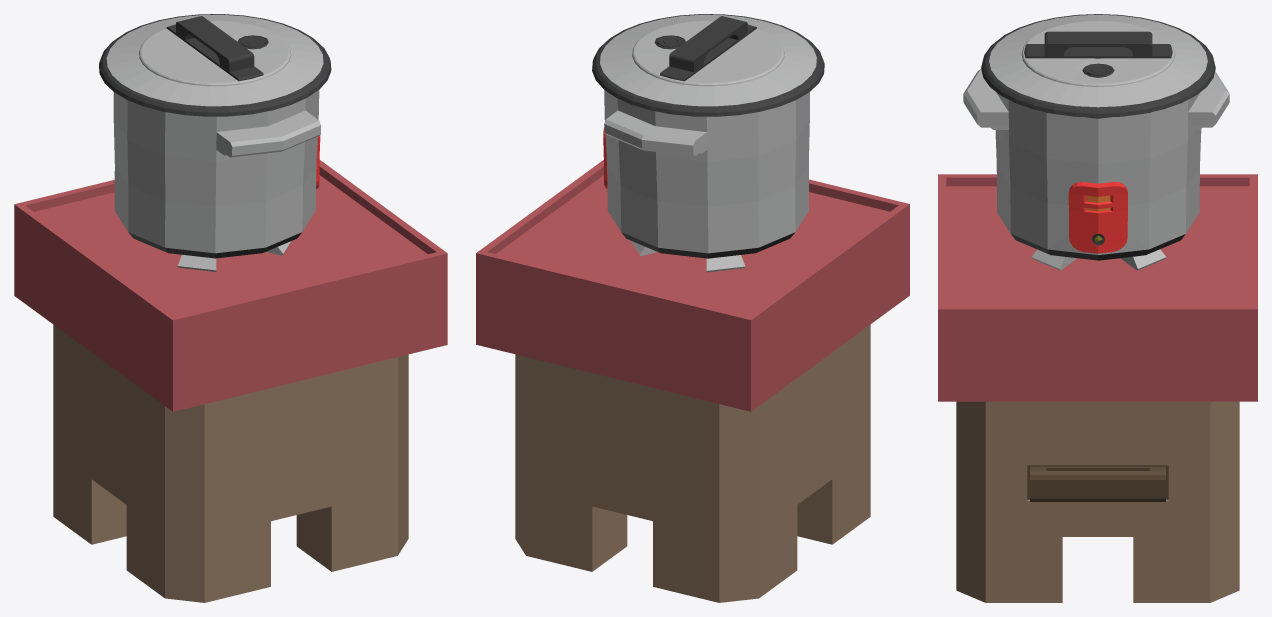
File: Rice_Cooker_Station_Interacted.fbx
3 renders of one model, left to right at view 1: azimuth 30°, elevation 25°; view 2: azimuth 150°, elevation 25°; view 3: azimuth 270°, elevation 25°, orthographic.
Parts seen in each view (by area): view 1: Table, Rice Cooker, Cylinder; view 2: Table, Rice Cooker, Cylinder; view 3: Table, Rice Cooker, Cylinder.
Boxes of the visible parts, x1,y1,x2,y2 form: Table: (14, 160, 447, 602); Rice Cooker: (113, 90, 321, 271); Cylinder: (99, 14, 331, 116); Table: (476, 160, 909, 602); Rice Cooker: (603, 90, 809, 272); Cylinder: (592, 14, 824, 116); Table: (938, 174, 1257, 602); Rice Cooker: (963, 69, 1229, 270); Cylinder: (981, 14, 1215, 117).
Bounding box in the file's own units: 199 × 341 × 199.
